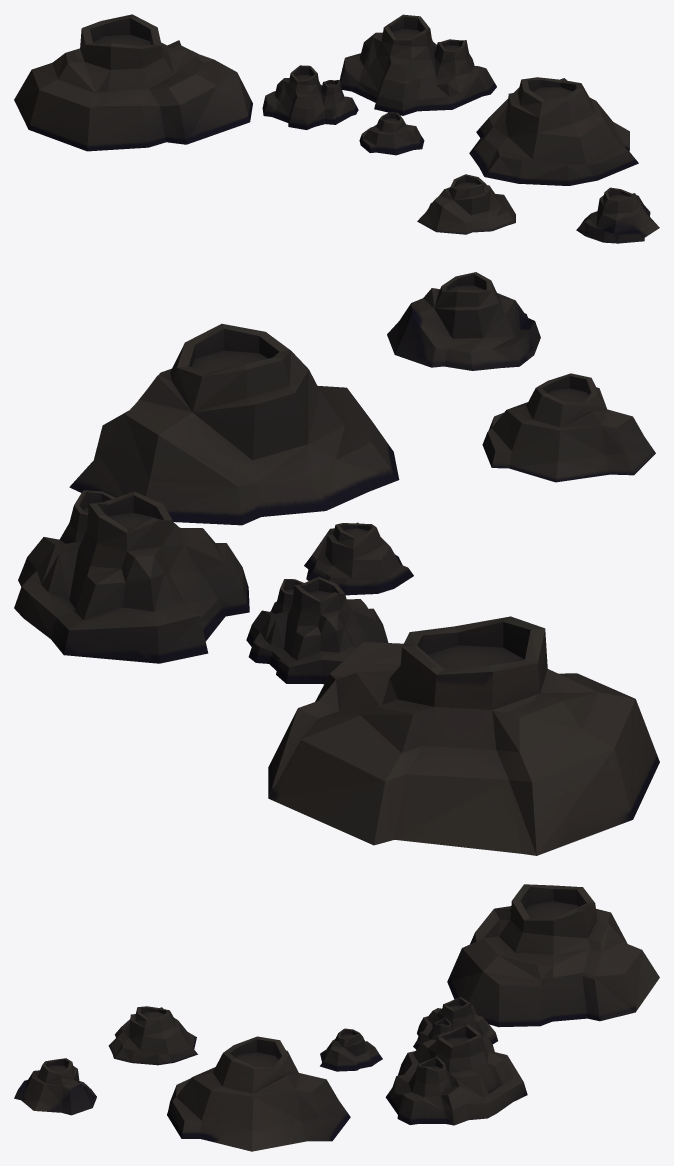
Rendered from Ground_05.FBX.
The picture shows the model from 3 angles, top to bottom: view 1: azimuth 30°, elevation 25°; view 2: azimuth 150°, elevation 25°; view 3: azimuth 270°, elevation 25°; orthographic projection. The views are drawn at different scales.
Visible parts, largest first — view 1: Ground_05; view 2: Ground_05; view 3: Ground_05.
Part boxes in pixels (left/top/right/bottom): Ground_05: left=14, top=14, right=659, bottom=243; Ground_05: left=14, top=272, right=659, bottom=855; Ground_05: left=14, top=884, right=659, bottom=1151.
Size of the model in its own units: 40.46 by 6.8 by 50.14.
